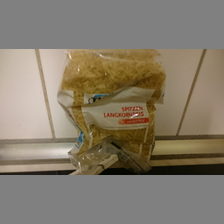rice: (56, 49, 168, 174)
